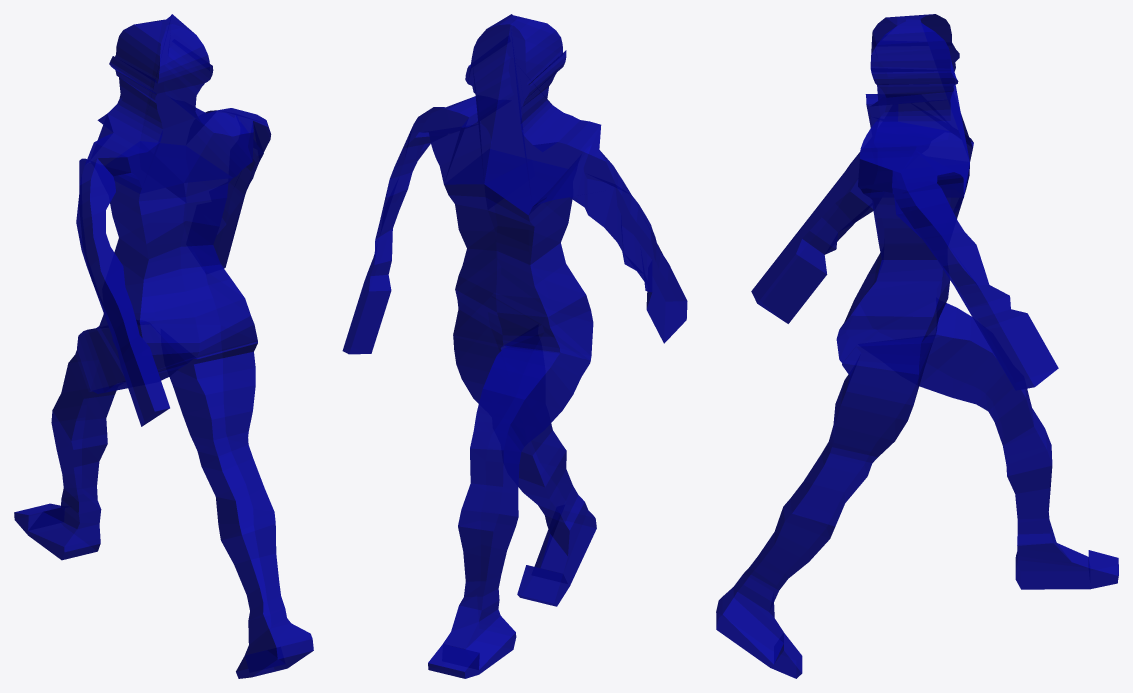
File: woman_000024.obj
The picture shows the model from 3 angles, left to right: view 1: azimuth 30°, elevation 25°; view 2: azimuth 150°, elevation 25°; view 3: azimuth 270°, elevation 25°; orthographic projection. The views are drawn at different scales.
Parts seen in each view (by area): view 1: Cube_Cube.001; view 2: Cube_Cube.001; view 3: Cube_Cube.001.
Boxes of the visible parts, x1,y1,x2,y2 form: Cube_Cube.001: [14, 14, 313, 678]; Cube_Cube.001: [342, 14, 687, 678]; Cube_Cube.001: [716, 14, 1118, 678].
Bounding box in the file's own units: 3.62 × 10.04 × 5.78.
